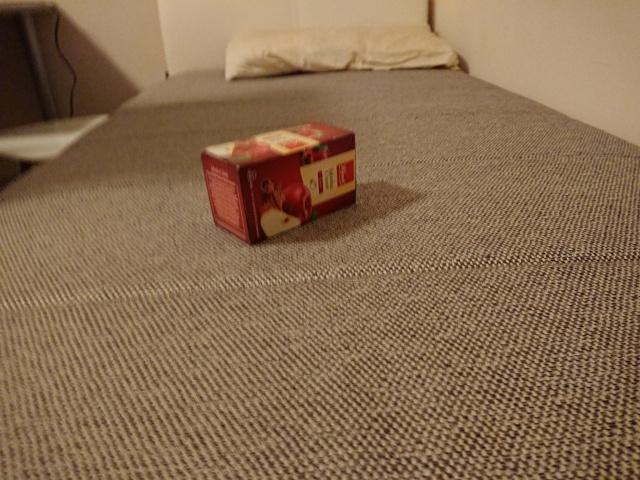Franck Apple Cinnamon Tea 60g: (197, 118, 360, 248)
